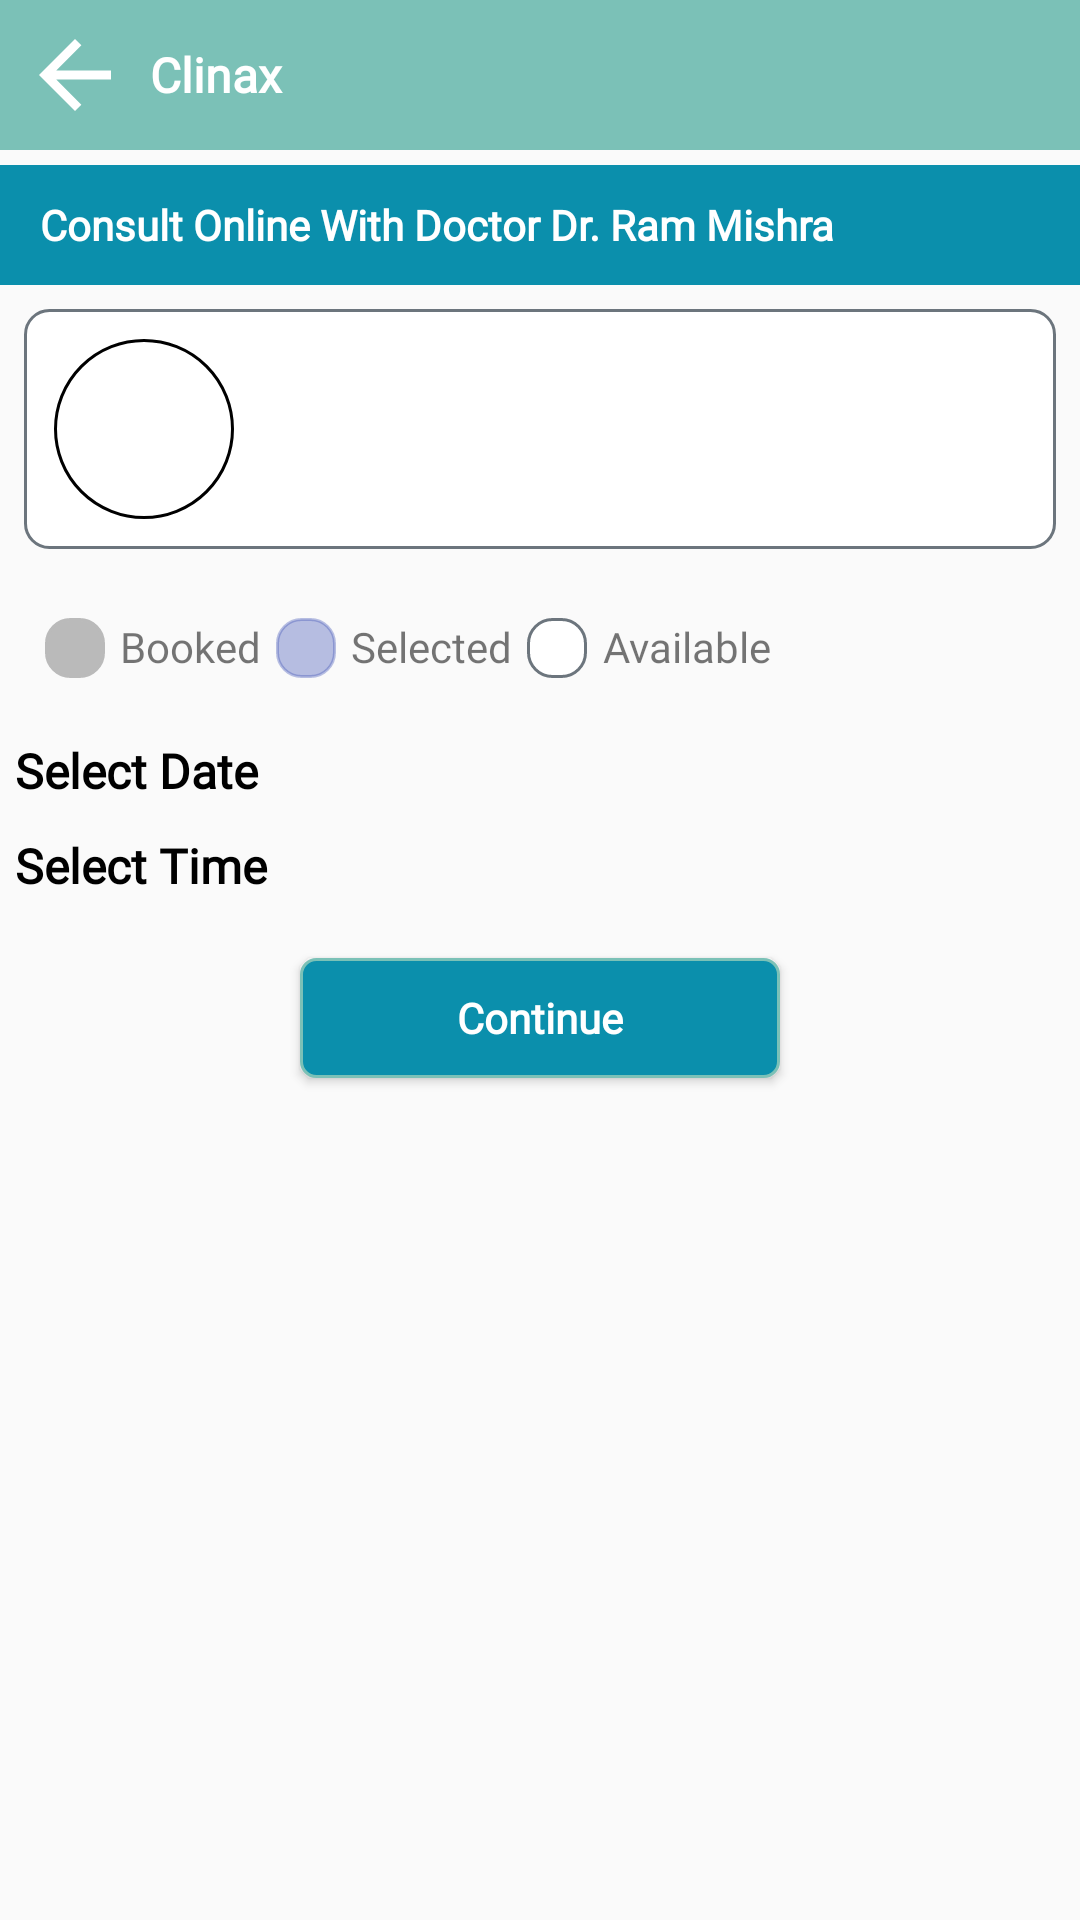

Icon bounding boxes for this 1080px×1920px phone screenshot, format (x1, y1, x2, y2):
arrow back: (39, 39, 111, 111)
